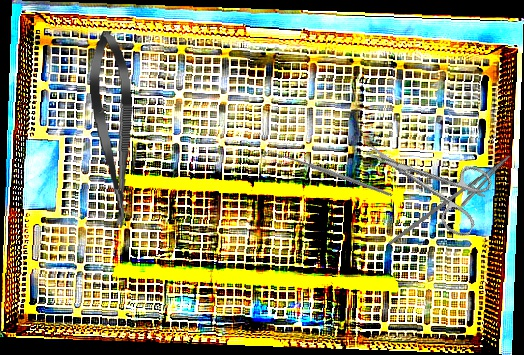Hook Surgical: (262, 106, 394, 244)
Iris Scissors: (352, 116, 500, 241)
Micro Scissor: (86, 29, 141, 230)
Needle Holder: (387, 141, 519, 267)
